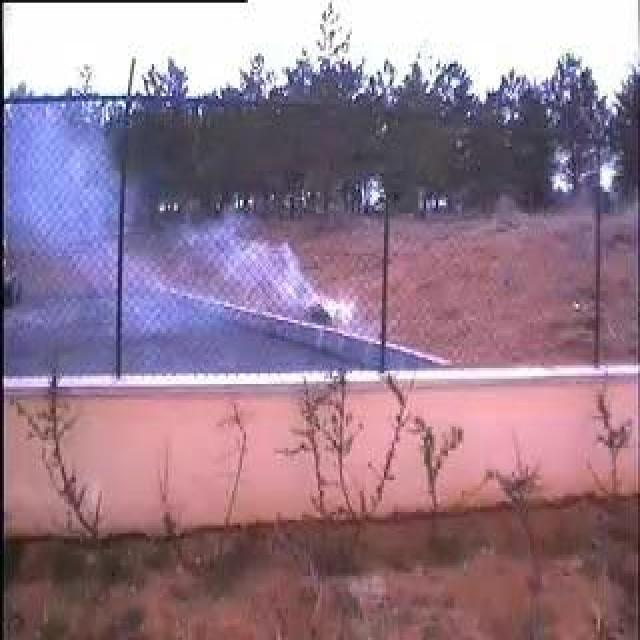Smoke: (49, 106, 363, 338)
